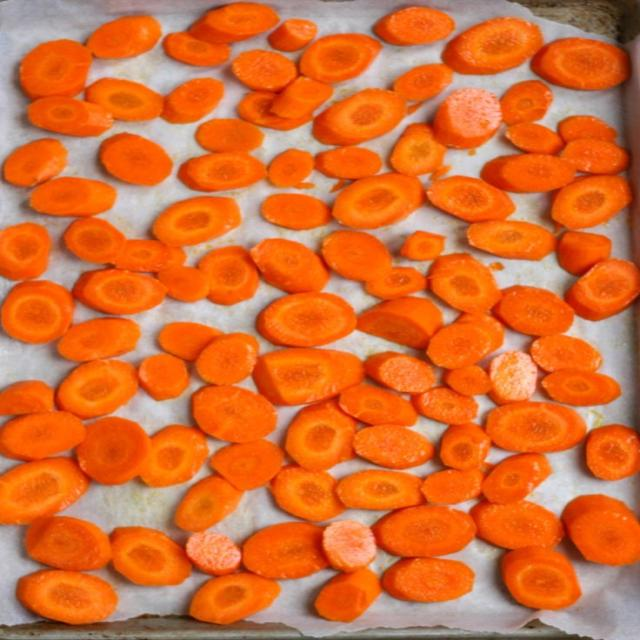carrot: (254, 348, 364, 405), (0, 457, 89, 524), (443, 17, 543, 74), (16, 570, 118, 624), (256, 293, 356, 347), (562, 495, 639, 565), (373, 505, 475, 557), (314, 89, 406, 145), (532, 38, 630, 90), (333, 173, 425, 228), (487, 401, 586, 452), (285, 399, 356, 470), (77, 417, 151, 485), (501, 547, 581, 609), (242, 522, 328, 579), (56, 360, 138, 419), (111, 527, 191, 586), (193, 386, 277, 442), (25, 517, 111, 571), (189, 573, 280, 624), (0, 281, 73, 343), (566, 259, 639, 320), (357, 297, 442, 349), (470, 501, 564, 548), (153, 196, 241, 246), (428, 253, 501, 313), (250, 238, 329, 293), (551, 176, 632, 229), (0, 411, 85, 461), (20, 40, 92, 99), (73, 269, 166, 314), (140, 425, 208, 486), (427, 176, 515, 223), (270, 466, 345, 521), (382, 558, 474, 602), (493, 286, 573, 336), (434, 89, 501, 148), (300, 34, 381, 82), (175, 475, 243, 532), (100, 133, 173, 186), (211, 440, 284, 491), (481, 154, 575, 193), (314, 568, 381, 622), (190, 2, 278, 43), (354, 425, 434, 470), (198, 246, 259, 305), (482, 453, 552, 504), (337, 469, 424, 510), (321, 231, 392, 281), (178, 152, 266, 192), (29, 177, 117, 217), (27, 96, 113, 136), (195, 333, 259, 385), (85, 78, 164, 120), (374, 7, 455, 46), (340, 385, 417, 426), (3, 138, 67, 187), (87, 16, 161, 58), (427, 322, 493, 369), (63, 217, 126, 264), (542, 369, 621, 406), (390, 123, 446, 175), (0, 223, 51, 280), (587, 425, 639, 480), (365, 352, 434, 393), (237, 92, 311, 130), (322, 520, 376, 572), (161, 78, 223, 123), (232, 50, 298, 92), (530, 335, 602, 372), (489, 351, 538, 405), (271, 76, 333, 118), (261, 194, 332, 230), (560, 139, 630, 175), (556, 231, 612, 275), (158, 322, 221, 361), (412, 387, 478, 424), (138, 354, 189, 401), (439, 424, 491, 470), (500, 80, 553, 125), (186, 532, 241, 575), (163, 32, 230, 66), (195, 119, 264, 151), (421, 469, 484, 504), (393, 64, 453, 100), (316, 147, 382, 179), (114, 239, 170, 273), (158, 265, 209, 302), (456, 314, 505, 352), (0, 380, 53, 415), (506, 123, 564, 154), (267, 149, 314, 187), (268, 19, 317, 52), (558, 116, 617, 142), (443, 365, 492, 395), (400, 231, 445, 260), (167, 247, 186, 267), (407, 101, 426, 114), (330, 179, 347, 193)
